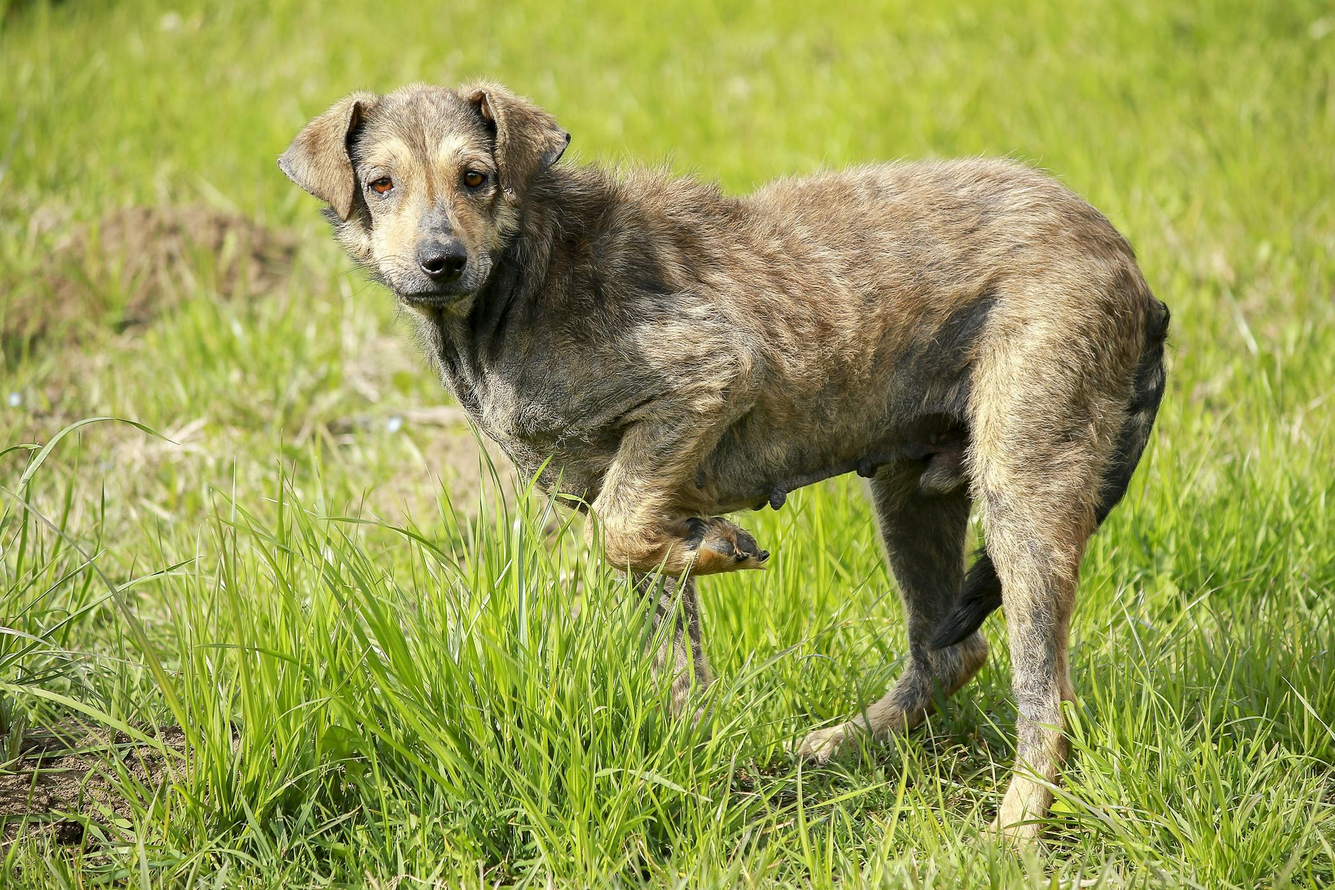fracture: (517, 375, 825, 683)
